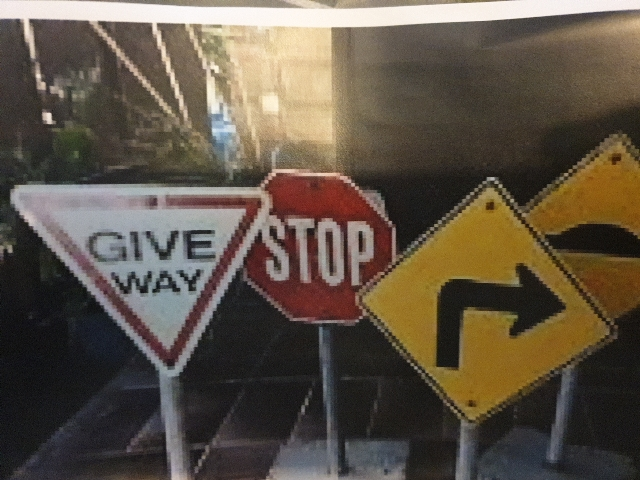giveway: (32, 193, 251, 342), (407, 221, 583, 387)
stop: (256, 178, 390, 315)
